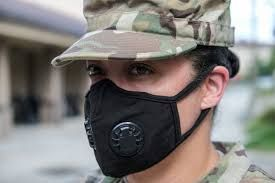with-mask: (70, 44, 232, 181)
